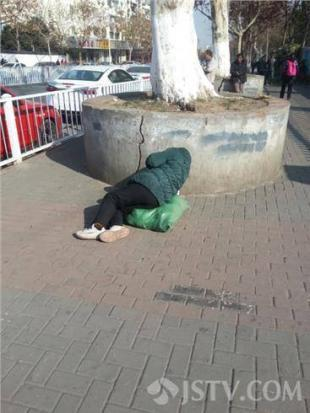Fall-Detected: (62, 139, 201, 243)
